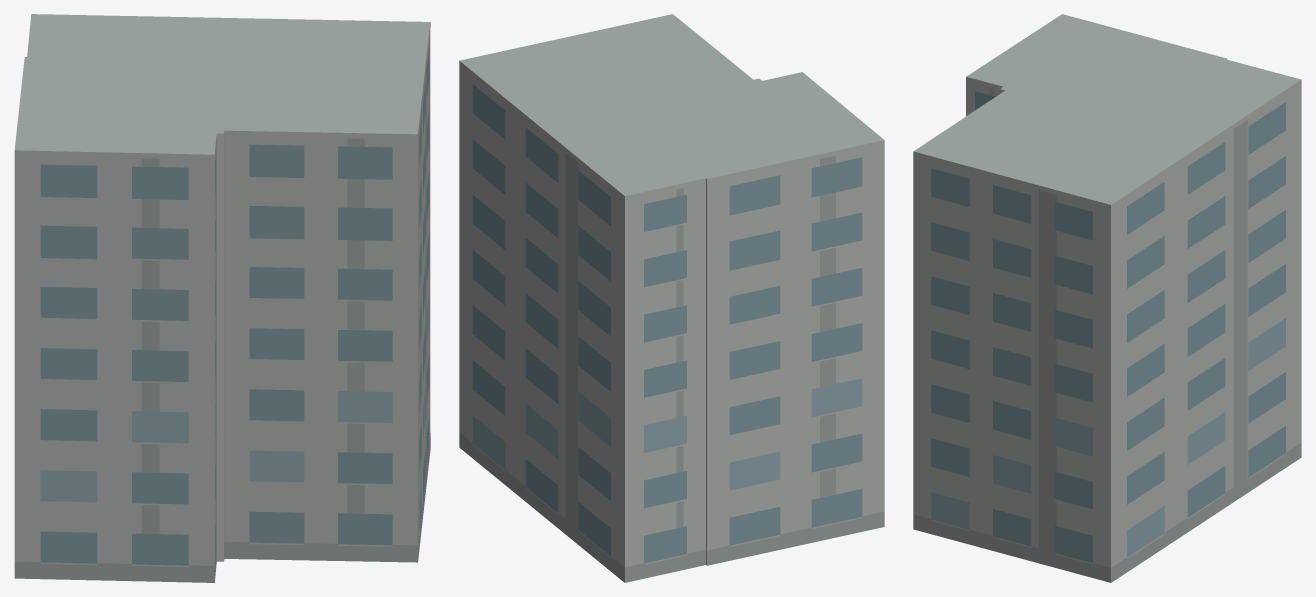
File: survey-upis-32523027.glb
The picture shows the model from 3 angles, left to right: view 1: azimuth 30°, elevation 25°; view 2: azimuth 150°, elevation 25°; view 3: azimuth 270°, elevation 25°; orthographic projection. The views are drawn at different scales.
Visible parts, largest first — view 1: survey-upis-32523027.tmp; view 2: survey-upis-32523027.tmp; view 3: survey-upis-32523027.tmp.
Boxes of the visible parts, x1,y1,x2,y2 form: survey-upis-32523027.tmp: (14,14,430,582); survey-upis-32523027.tmp: (459,14,884,582); survey-upis-32523027.tmp: (913,14,1301,582).
Bounding box in the file's own units: 21.08 × 19.45 × 18.11.
